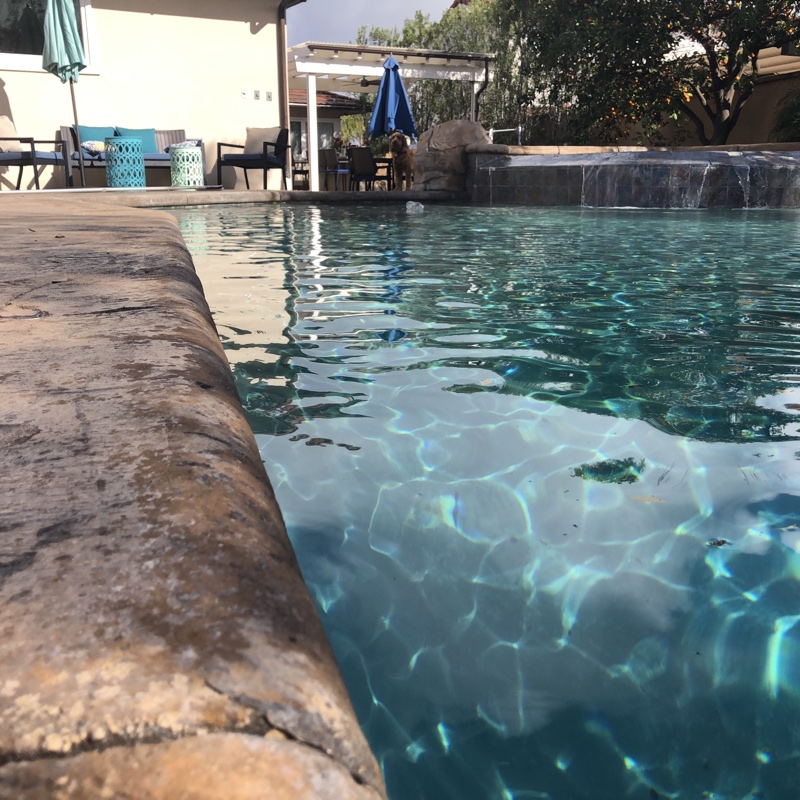Plastic Bottle: (401, 197, 430, 218)
